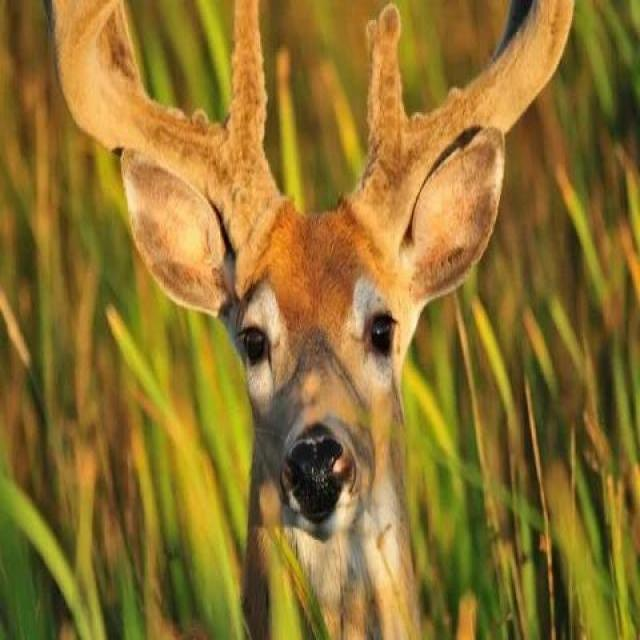deer: (154, 112, 484, 544)
